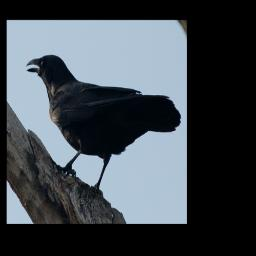Crow: (24, 53, 181, 197)
